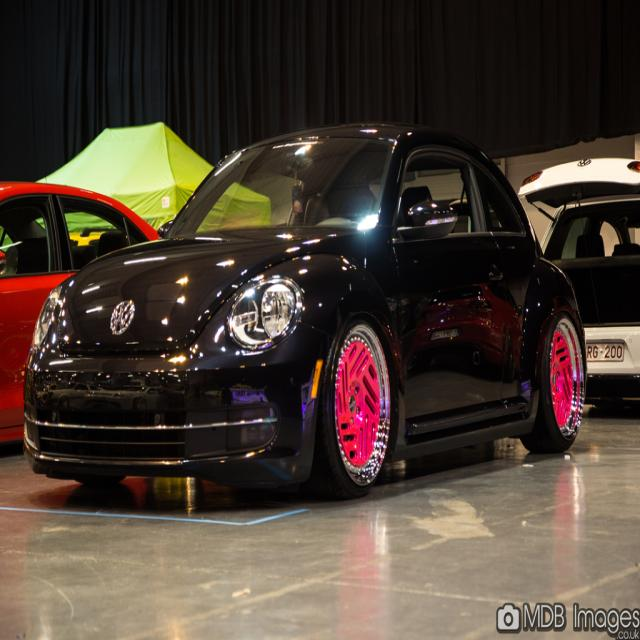car: (20, 117, 588, 496)
